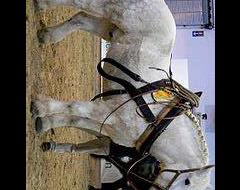horse: (30, 0, 215, 190)
